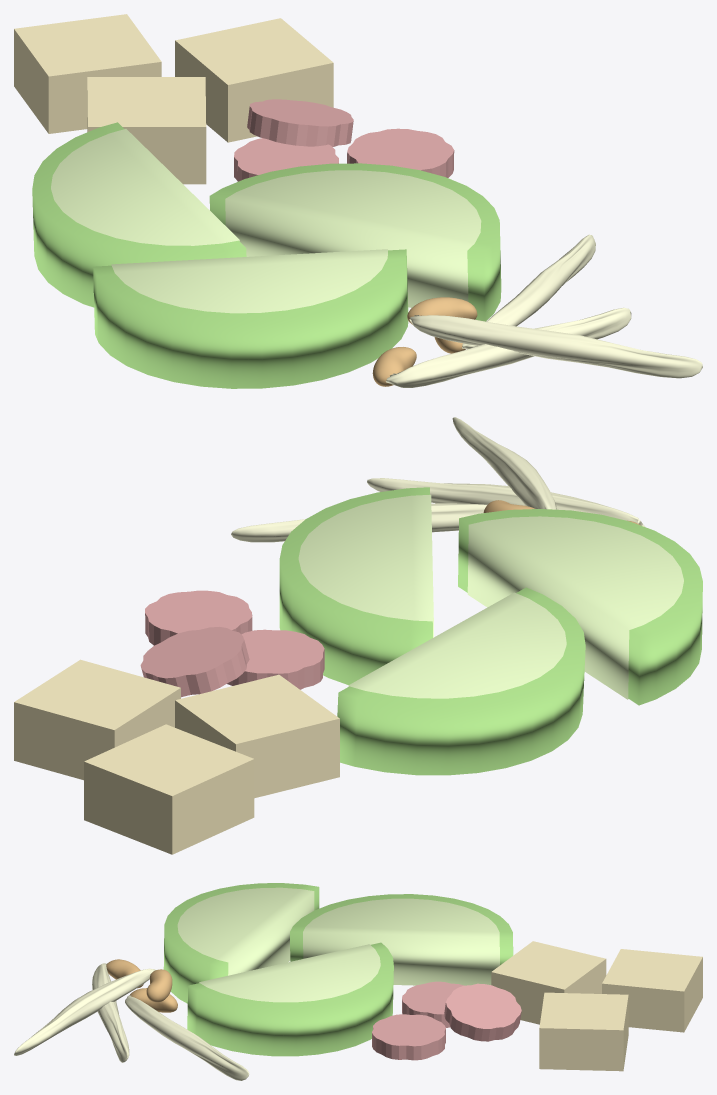
Rendered from cutveges.fbx.
3 renders of one model, top to bottom at view 1: azimuth 30°, elevation 25°; view 2: azimuth 150°, elevation 25°; view 3: azimuth 270°, elevation 25°, orthographic. The views are drawn at different scales.
Visible parts, largest first — view 1: Cylinder.044, Cylinder.054, Cylinder.056, Cylinder.052, Cube.024, Cube.023, Cylinder.055, Cube.022, Sphere.087, Cylinder.053, Sphere.083, Cylinder.043 (+5 smaller); view 2: Cylinder.052, Cylinder.055, Cube.023, Cylinder.054, Cylinder.056, Cube.024, Cube.022, Cylinder.053, Cylinder.044, Cylinder.043, Cylinder.057, Cylinder.042 (+3 smaller); view 3: Cylinder.056, Cylinder.053, Cylinder.052, Cube.024, Cube.023, Cylinder.054, Cube.022, Cylinder.044, Cylinder.043, Cylinder.057, Sphere.087, Sphere.081 (+6 smaller).
Part boxes in pixels (x1,y1,x2,y2): Cylinder.044: [93, 249, 408, 388]; Cylinder.054: [225, 170, 481, 307]; Cylinder.056: [51, 129, 239, 245]; Cylinder.052: [111, 249, 387, 313]; Cube.024: [175, 18, 333, 142]; Cube.023: [14, 14, 161, 133]; Cylinder.055: [32, 122, 246, 307]; Cube.022: [87, 77, 206, 184]; Sphere.087: [409, 315, 702, 378]; Cylinder.053: [209, 163, 501, 321]; Sphere.083: [386, 307, 631, 387]; Cylinder.043: [247, 99, 353, 146]; Cylinder.052: [467, 516, 683, 699]; Cylinder.055: [337, 587, 585, 775]; Cube.023: [84, 724, 254, 854]; Cylinder.054: [298, 494, 433, 637]; Cylinder.056: [348, 592, 566, 698]; Cube.024: [14, 659, 180, 780]; Cube.022: [175, 674, 339, 798]; Cylinder.053: [279, 487, 432, 684]; Cylinder.044: [458, 509, 702, 705]; Cylinder.043: [140, 627, 249, 697]; Cylinder.057: [145, 590, 252, 645]; Cylinder.042: [227, 629, 324, 689]; Cylinder.056: [303, 898, 499, 985]; Cylinder.053: [187, 942, 393, 1056]; Cylinder.052: [177, 887, 314, 975]; Cube.024: [539, 992, 628, 1071]; Cube.023: [602, 949, 702, 1032]; Cylinder.054: [199, 944, 380, 1002]; Cube.022: [491, 941, 606, 1024]; Cylinder.044: [163, 883, 319, 1003]; Cylinder.043: [444, 983, 521, 1041]; Cylinder.057: [372, 1014, 445, 1060]; Sphere.087: [14, 968, 155, 1055]; Sphere.081: [125, 995, 249, 1080].
Bounding box in the file's own units: 192 × 30.54 × 347.
